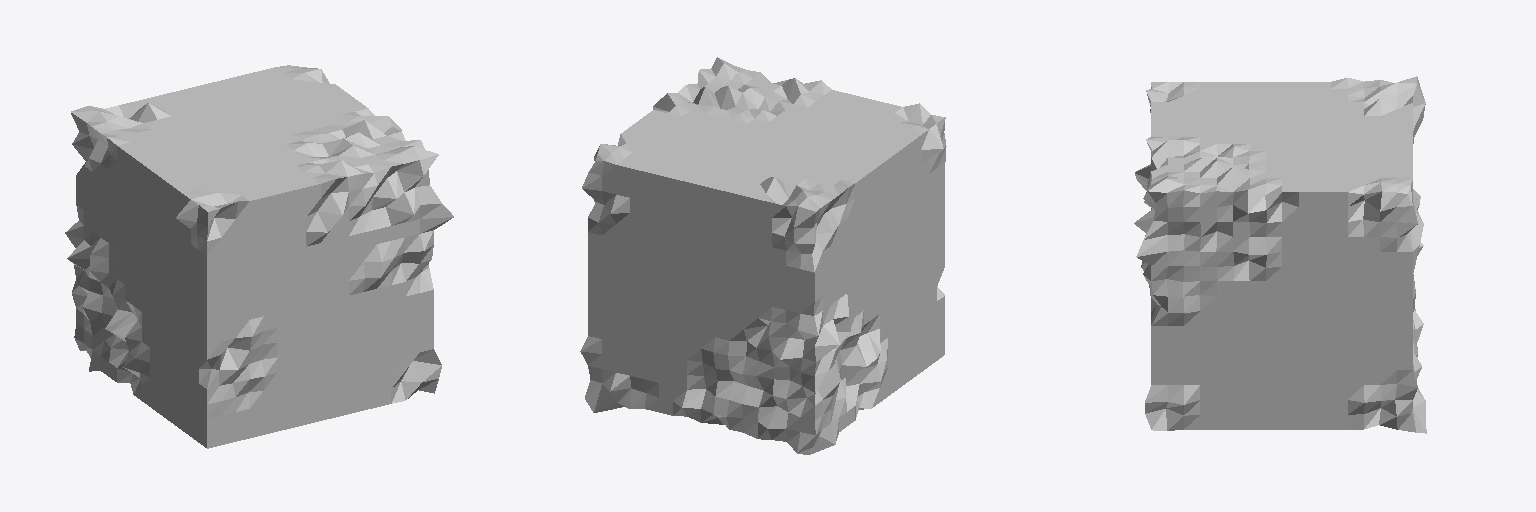
File: noiseCube.obj
3 renders of one model, left to right at view 1: azimuth 30°, elevation 25°; view 2: azimuth 150°, elevation 25°; view 3: azimuth 270°, elevation 25°, orthographic.
Visible parts, largest first — view 1: result; view 2: result; view 3: result.
Part boxes in pixels (left/top/right/bottom): result: left=65, top=65, right=453, bottom=448; result: left=580, top=57, right=946, bottom=454; result: left=1134, top=76, right=1426, bottom=433.
Bounding box in the file's own units: 36.88 × 35.62 × 35.84.